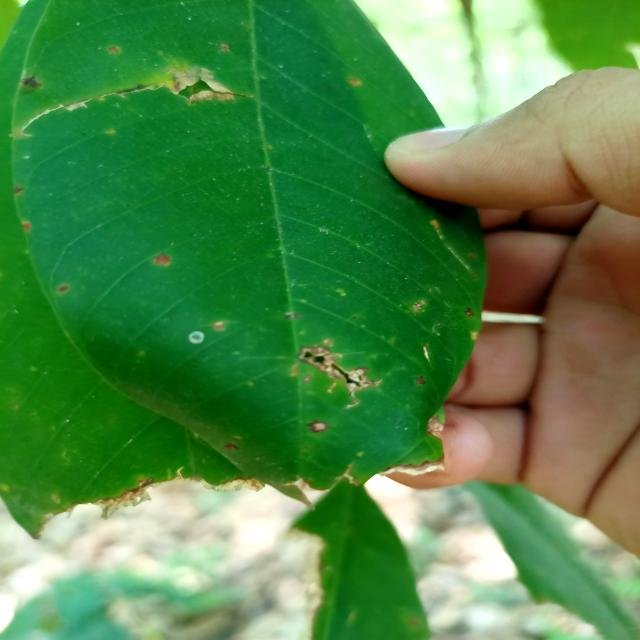Colletotrichum: (307, 418, 331, 435), (154, 252, 170, 266), (464, 307, 474, 316), (416, 376, 426, 385), (58, 285, 70, 291), (14, 186, 23, 193)
Leaf-Blight: (174, 68, 234, 103)
